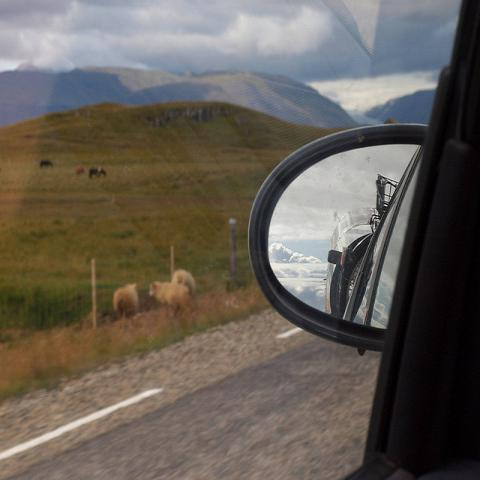car: (248, 0, 479, 474)
